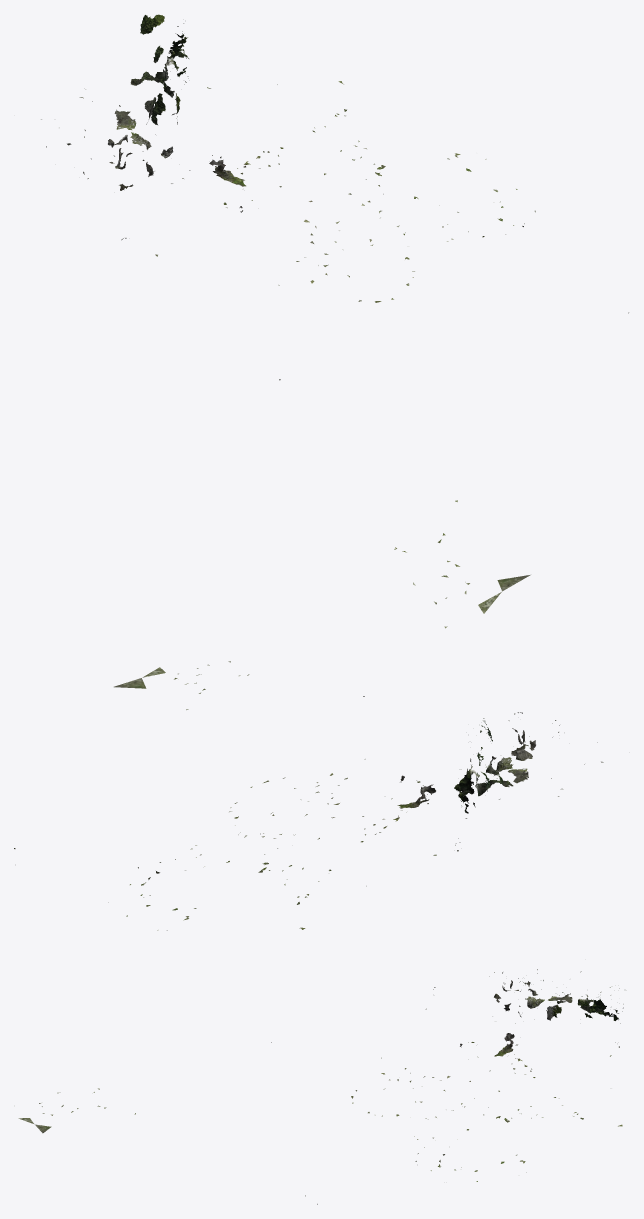
3 renders of one model, top to bottom at view 1: azimuth 30°, elevation 25°; view 2: azimuth 210°, elevation 25°; view 3: azimuth 270°, elevation 25°, orthographic. The views are drawn at different scales.
Bounding box in the file's own units: 49.23 × 27.9 × 89.91.
1 material, 1 textured.
